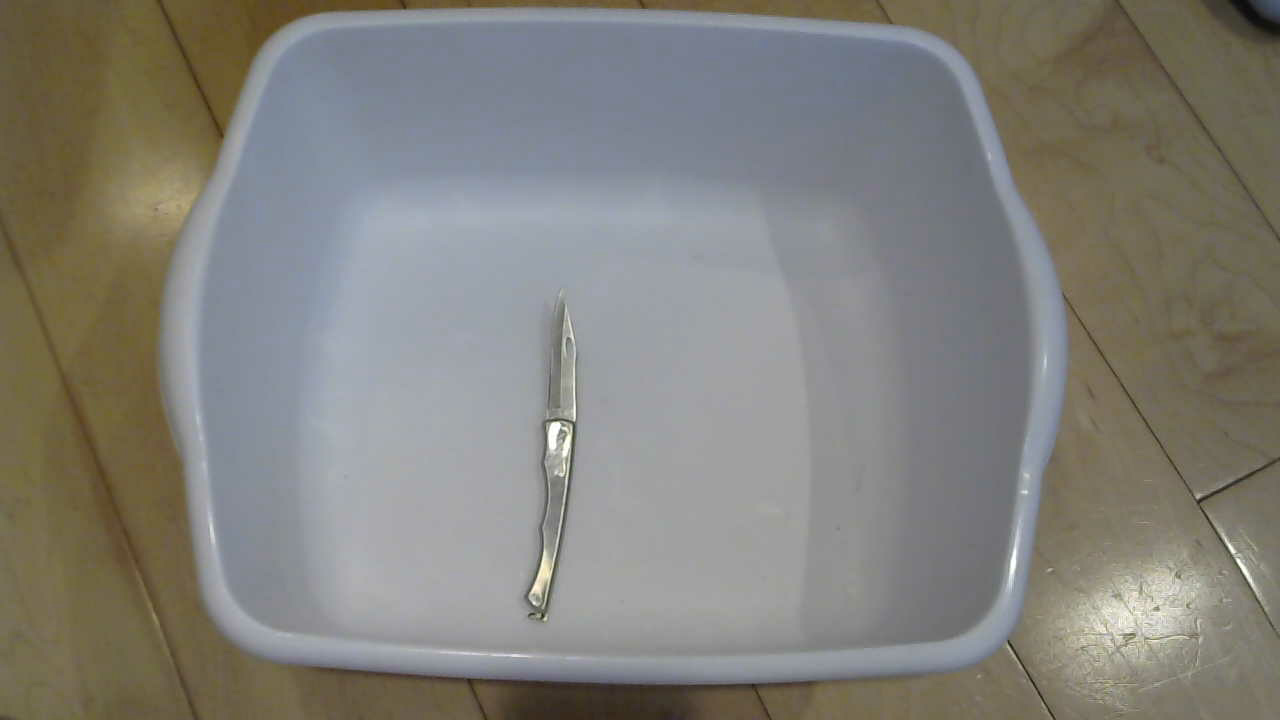knife: (481, 291, 600, 623)
